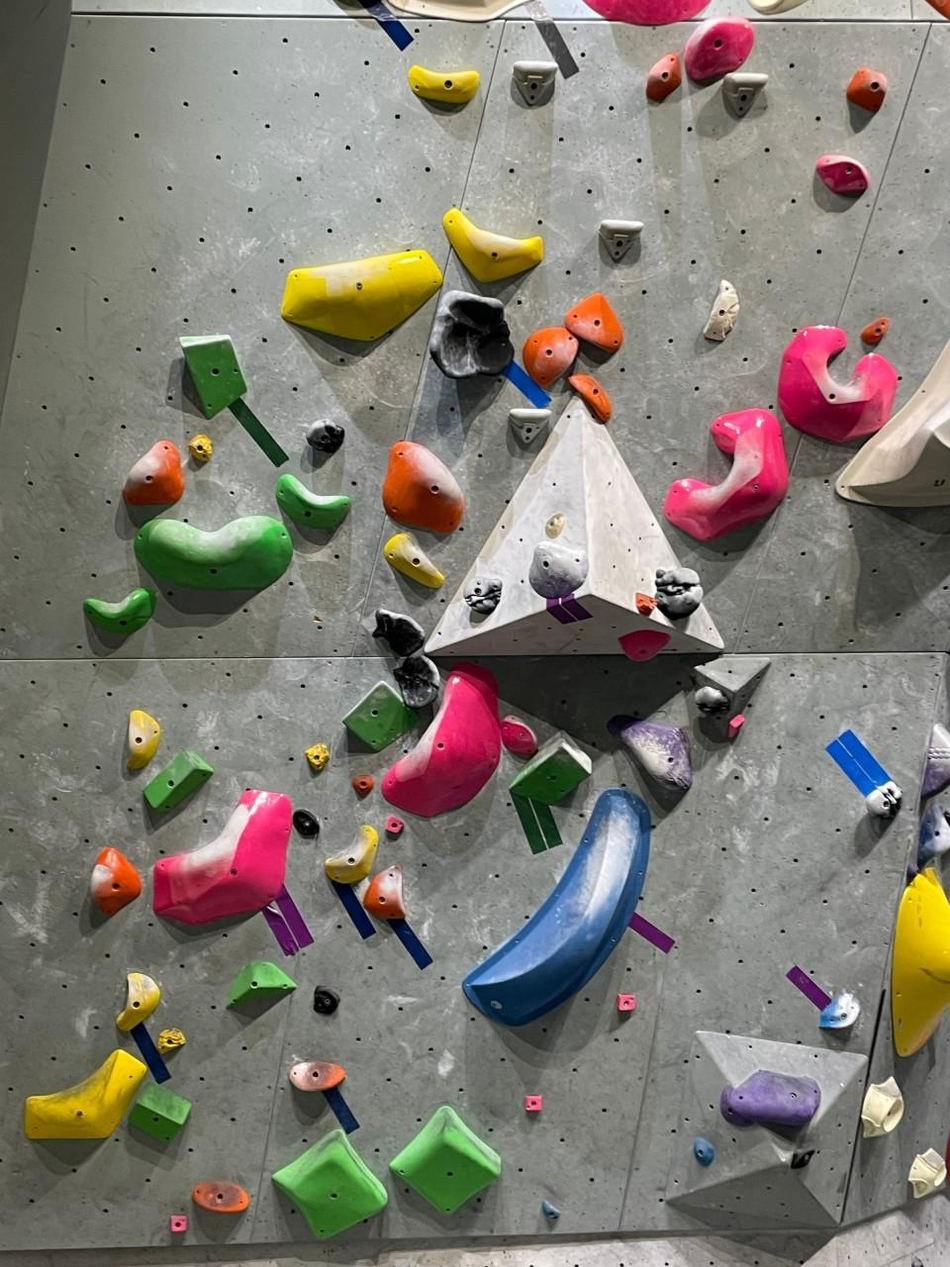hold: (462, 788, 651, 1025), (152, 791, 292, 927), (835, 341, 949, 507), (381, 664, 502, 818), (663, 408, 788, 541), (283, 249, 442, 341), (778, 327, 898, 444), (272, 1128, 387, 1239), (389, 1106, 501, 1214), (135, 516, 292, 590), (23, 1049, 147, 1140), (890, 867, 949, 1056), (382, 440, 464, 535), (429, 290, 514, 379), (680, 658, 770, 742), (443, 208, 543, 282), (607, 712, 691, 792), (719, 1069, 820, 1131), (510, 734, 591, 805), (179, 336, 247, 419), (342, 682, 421, 752), (684, 17, 754, 84), (275, 473, 349, 531), (143, 751, 213, 811), (122, 440, 184, 505), (128, 1083, 191, 1144), (90, 847, 142, 917), (564, 293, 623, 353), (528, 540, 587, 600), (522, 327, 578, 389), (383, 533, 444, 589), (83, 588, 155, 635), (227, 961, 297, 1009), (583, 0, 710, 26), (325, 825, 379, 884), (386, 0, 525, 22), (408, 65, 479, 105), (393, 653, 441, 710), (116, 972, 159, 1032), (655, 568, 703, 621), (862, 1076, 903, 1138), (373, 609, 425, 656), (816, 154, 869, 197), (363, 868, 406, 920), (703, 280, 739, 342), (722, 70, 768, 118), (568, 373, 611, 424), (126, 710, 161, 772), (921, 724, 949, 801), (513, 58, 555, 106), (908, 1148, 946, 1199), (599, 219, 643, 263), (508, 407, 551, 452), (917, 806, 949, 866), (847, 66, 887, 113), (192, 1181, 248, 1214), (645, 52, 681, 101), (289, 1061, 344, 1092), (464, 579, 502, 621), (500, 716, 537, 759), (818, 992, 860, 1029), (618, 630, 669, 659), (865, 781, 901, 819), (306, 420, 344, 453), (695, 686, 728, 714), (860, 317, 889, 348), (748, 0, 807, 15), (157, 1027, 185, 1055), (292, 809, 319, 838), (313, 986, 339, 1016), (188, 434, 212, 465), (305, 743, 330, 772), (694, 1136, 713, 1166), (790, 1148, 815, 1170), (544, 512, 565, 538), (351, 775, 373, 799), (634, 592, 656, 616), (726, 714, 744, 739), (542, 1200, 560, 1220), (385, 817, 404, 835), (169, 1215, 188, 1232), (618, 993, 636, 1010), (525, 1096, 541, 1111)
volume: (423, 399, 722, 658), (663, 1032, 870, 1229)
